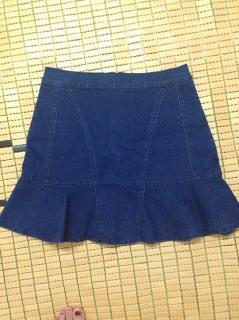skirt: (0, 63, 239, 244)
